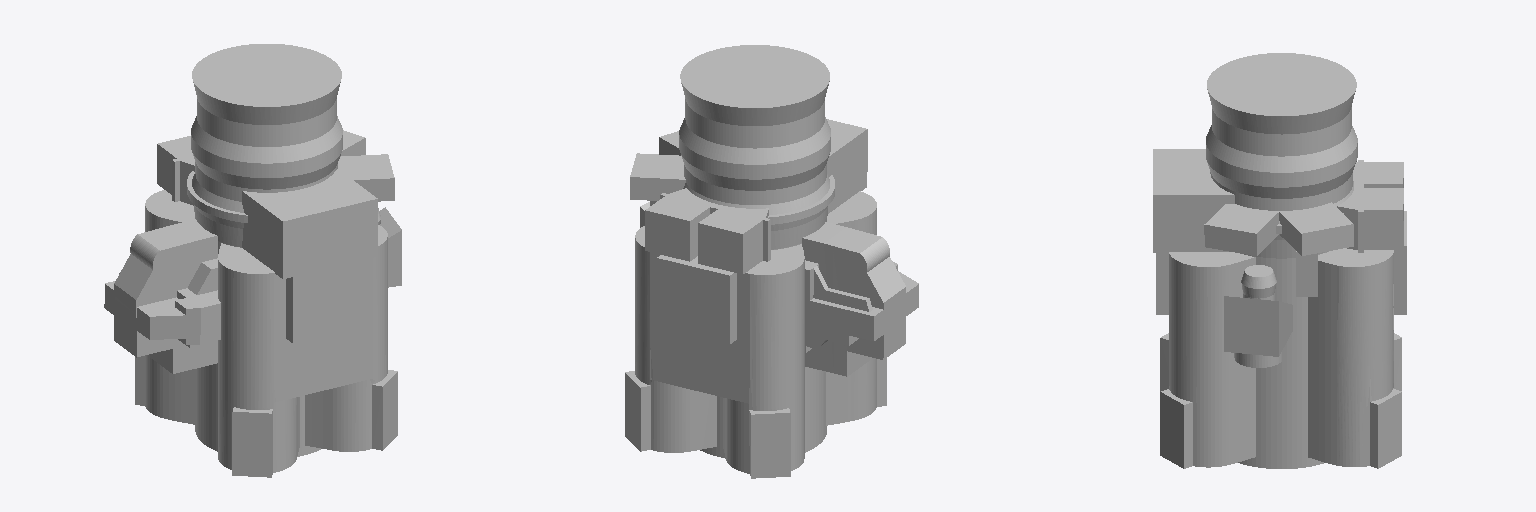
The picture shows the model from 3 angles: view 1: azimuth 30°, elevation 25°; view 2: azimuth 150°, elevation 25°; view 3: azimuth 270°, elevation 25°; orthographic projection.
Visible parts, largest first — view 1: link_71; view 2: link_71; view 3: link_71.
Part boxes in pixels (x1,y1,x2,y2): link_71: (104, 44, 401, 477); link_71: (625, 45, 918, 478); link_71: (1153, 53, 1406, 468).
Size of the model in its own units: 83.24 by 109 by 71.07.